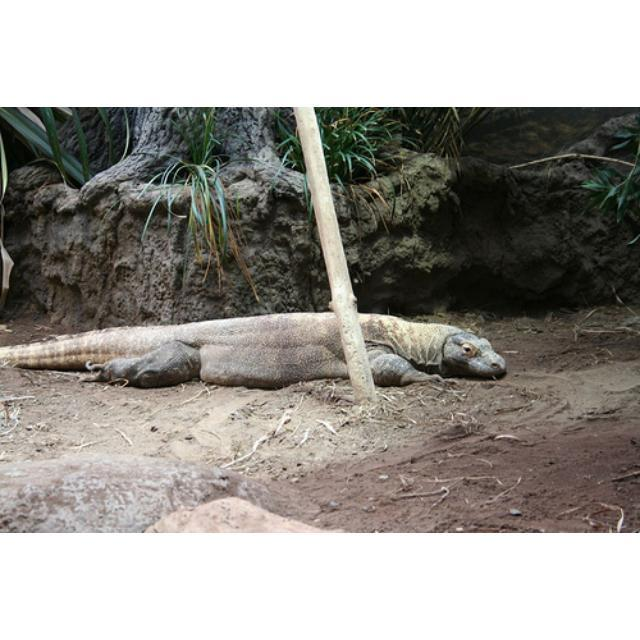KomodoDragon: (1, 308, 506, 386)
